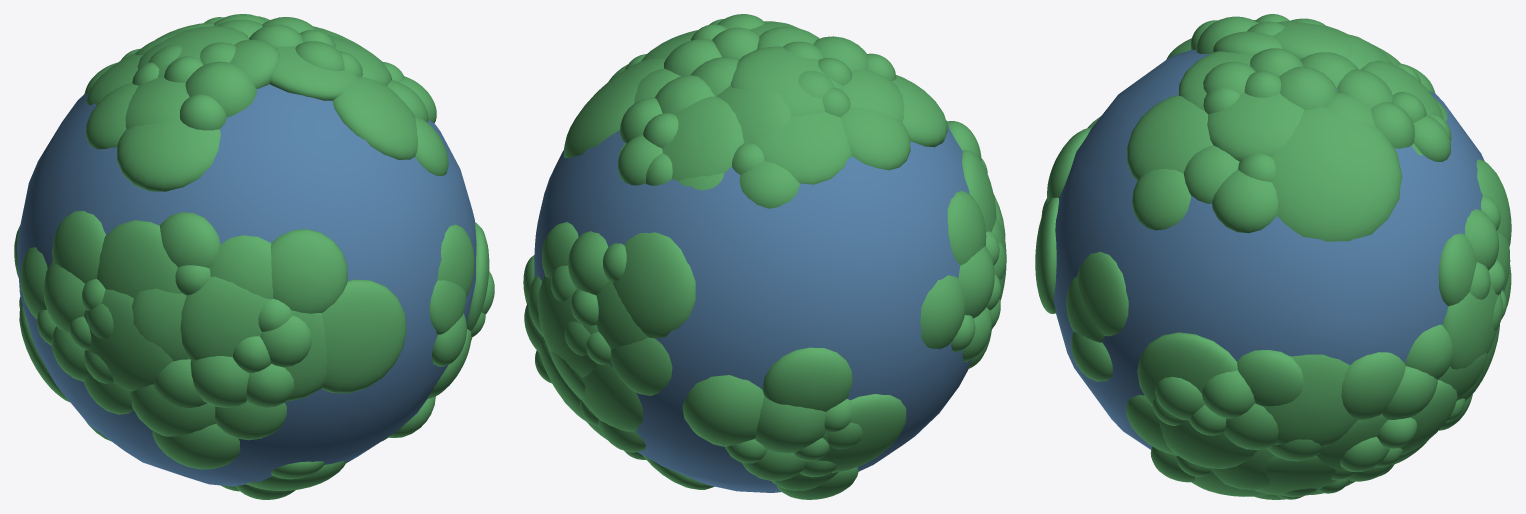
Rendered from Planet.fbx.
3 renders of one model, left to right at view 1: azimuth 30°, elevation 25°; view 2: azimuth 150°, elevation 25°; view 3: azimuth 270°, elevation 25°, orthographic.
Parts seen in each view (by area): view 1: Earth, Sea; view 2: Earth, Sea; view 3: Earth, Sea.
Part boxes in pixels (left/top/right/bottom): Earth: left=14, top=14, right=494, bottom=499; Sea: left=16, top=84, right=476, bottom=486; Earth: left=523, top=14, right=1006, bottom=499; Sea: left=534, top=121, right=971, bottom=492; Earth: left=1035, top=14, right=1511, bottom=499; Sea: left=1053, top=49, right=1484, bottom=449.
Size of the model in its own units: 19.02 by 18.82 by 18.66.
